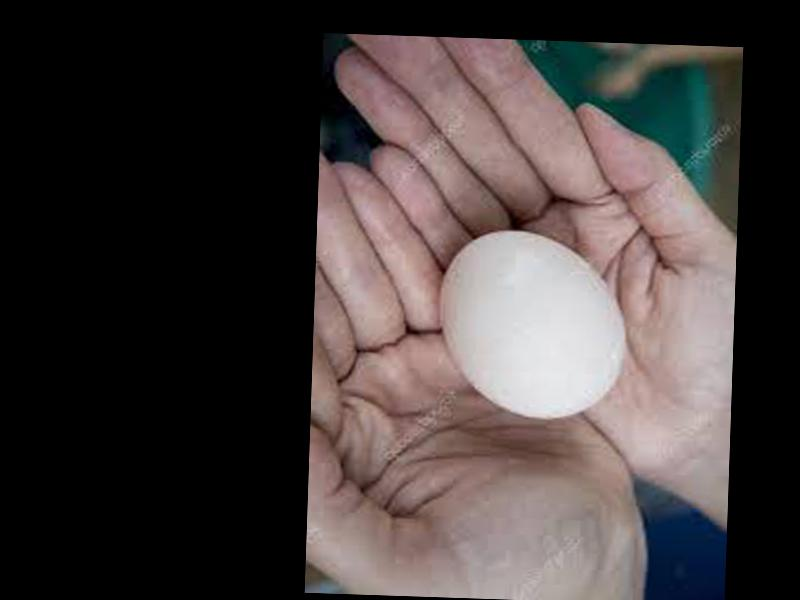Eggs: (441, 228, 624, 419)
